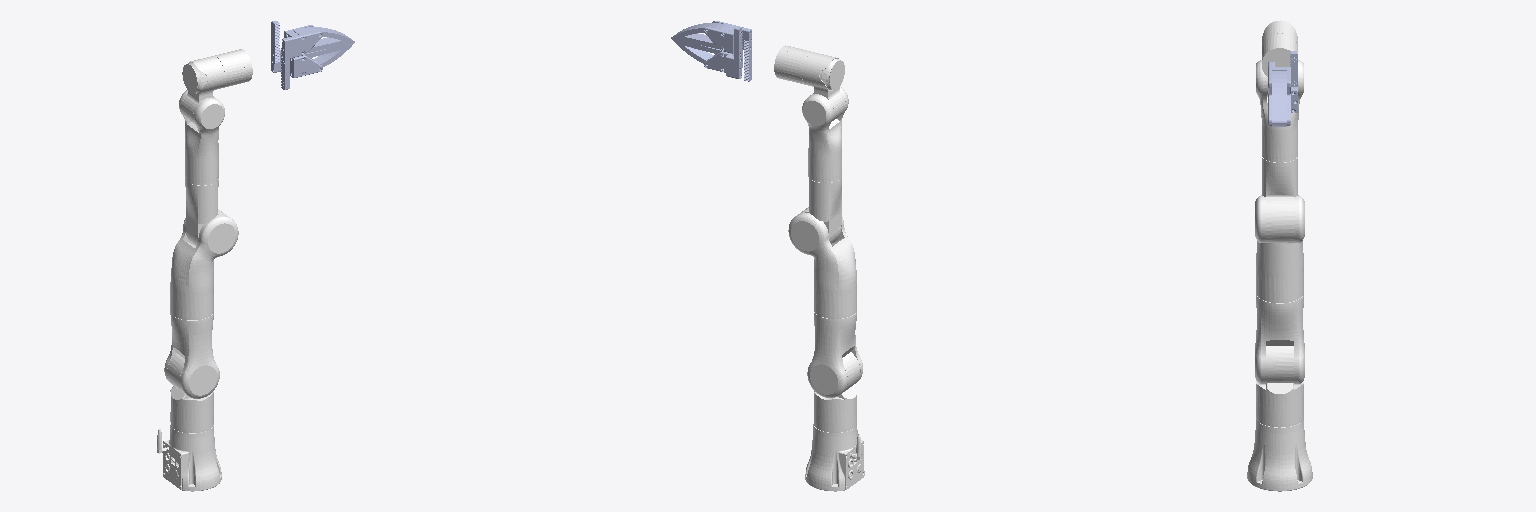
URDF robot description (panda):
<?xml version="1.0" ?>
<!-- =================================================================================== -->
<!-- |    This document was autogenerated by xacro from /opt/ros/noetic/share/franka_description/robots/panda/panda.urdf.xacro | -->
<!-- |    EDITING THIS FILE BY HAND IS NOT RECOMMENDED                                 | -->
<!-- =================================================================================== -->
<robot name="panda">
  <!-- sub-link defining detailed meshes for collision with environment -->
  <link
    name="panda_link0">
    <inertial>
      <origin
        xyz="0.000608631599856789 0.000101410841223995 0.0500536423028974"
        rpy="0 0 0" />
      <mass
        value="0.725732279372378" />
      <inertia
        ixx="0.00116526259312761"
        ixy="3.86984764047093E-06"
        ixz="3.61598634195121E-05"
        iyy="0.00114387939249178"
        iyz="-1.69159565748085E-06"
        izz="0.000799620765266388" />
    </inertial>
    <visual>
      <origin
        xyz="0 0 0"
        rpy="0 0 0" />
      <geometry>
        <mesh
          filename="package://franka_description/robots/meshes_gen/base_link.dae" />
      </geometry>
      <material
        name="">
        <color
          rgba="1 1 1 1" />
      </material>
    </visual>
    <collision>
      <origin
        xyz="0 0 0"
        rpy="0 0 0" />
      <geometry>
        <mesh
          filename="package://franka_description/robots/meshes_gen/base_link.STL" />
      </geometry>
    </collision>
  </link>
  <link
    name="panda_link1">
    <inertial>
      <origin
        xyz="3.54241616240111E-07 -6.0407327765511E-05 -0.0474562076947793"
        rpy="0 0 0" />
      <mass
        value="0.511231576042974" />
      <inertia
        ixx="0.000959440501675413"
        ixy="-1.90967914521862E-09"
        ixz="-7.95751539476377E-09"
        iyy="0.00102039305288465"
        iyz="1.46570590325122E-06"
        izz="0.000388714616194907" />
    </inertial>
    <visual>
      <origin
        xyz="0 0 0"
        rpy="0 0 0" />
      <geometry>
        <mesh
          filename="package://franka_description/robots/meshes_gen/Link1.dae" />
      </geometry>
      <material
        name="">
        <color
          rgba="1 1 1 1" />
      </material>
    </visual>
    <collision>
      <origin
        xyz="0 0 0"
        rpy="0 0 0" />
      <geometry>
        <mesh
          filename="package://franka_description/robots/meshes_gen/Link1.STL" />
      </geometry>
    </collision>
  </link>
  <joint
    name="panda_joint1"
    type="revolute">
    <origin
      xyz="0 0 0.218"
      rpy="0 0 0" />
    <parent
      link="panda_link0" />
    <child
      link="panda_link1" />
    <axis
      xyz="0 0 1" />
    <limit
      lower="-3.0014"
      upper="3.0014"
      effort="25"
      velocity="3.141" />
  </joint>
  <link
    name="panda_link2">
    <inertial>
      <origin
        xyz="-7.09647952406739E-07 -0.0576246216953338 -3.88440270542586E-05"
        rpy="0 0 0" />
      <mass
        value="0.551907023014854" />
      <inertia
        ixx="0.00142140348660833"
        ixy="-1.11203318362369E-08"
        ixz="1.36371990293752E-08"
        iyy="0.00052571427239726"
        iyz="1.30499471891358E-06"
        izz="0.00127234961251408" />
    </inertial>
    <visual>
      <origin
        xyz="0 0 0"
        rpy="0 0 0" />
      <geometry>
        <mesh
          filename="package://franka_description/robots/meshes_gen/Link2.dae" />
      </geometry>
      <material
        name="">
        <color
          rgba="1 1 1 1" />
      </material>
    </visual>
    <collision>
      <origin
        xyz="0 0 0"
        rpy="0 0 0" />
      <geometry>
        <mesh
          filename="package://franka_description/robots/meshes_gen/Link2.STL" />
      </geometry>
    </collision>
  </link>
  <joint
    name="panda_joint2"
    type="revolute">
    <origin
      xyz="0 0 0"
      rpy="-1.5708 0 0" />
    <parent
      link="panda_link1" />
    <child
      link="panda_link2" />
    <axis
      xyz="0 0 1" />
    <limit
      lower="-1.8323"
      upper="1.8323"
      effort="25"
      velocity="3.141" />
  </joint>
  <link
    name="panda_link3">
    <inertial>
      <origin
        xyz="0.00897441376214204 2.62633968732461E-05 -0.07382847021305"
        rpy="0 0 0" />
      <mass
        value="0.774130450031718" />
      <inertia
        ixx="0.00242102073961794"
        ixy="-6.22596416744426E-07"
        ixz="-0.000489521447339786"
        iyy="0.00248694314969312"
        iyz="-1.48542895560703E-06"
        izz="0.000900997189719803" />
    </inertial>
    <visual>
      <origin
        xyz="0 0 0"
        rpy="0 0 0" />
      <geometry>
        <mesh
          filename="package://franka_description/robots/meshes_gen/Link3.dae" />
      </geometry>
      <material
        name="">
        <color
          rgba="1 1 1 1" />
      </material>
    </visual>
    <collision>
      <origin
        xyz="0 0 0"
        rpy="0 0 0" />
      <geometry>
        <mesh
          filename="package://franka_description/robots/meshes_gen/Link3.STL" />
      </geometry>
    </collision>
  </link>
  <joint
    name="panda_joint3"
    type="revolute">
    <origin
      xyz="0 -0.28 0"
      rpy="1.5708 0 0" />
    <parent
      link="panda_link2" />
    <child
      link="panda_link3" />
    <axis
      xyz="0 0 1" />
    <limit
      lower="-3.0014"
      upper="3.0014"
      effort="25"
      velocity="3.141" />
  </joint>
  <link
    name="panda_link4">
    <inertial>
      <origin
        xyz="-0.00962438865086499 0.0352034287339324 0.000174576348464699"
        rpy="0 0 0" />
      <mass
        value="0.437130215853825" />
      <inertia
        ixx="0.000866914153248162"
        ixy="0.000148761646913658"
        ixz="-7.42553547352418E-07"
        iyy="0.000267753002587659"
        iyz="2.68058265485487E-06"
        izz="0.000952324298928136" />
    </inertial>
    <visual>
      <origin
        xyz="0 0 0"
        rpy="0 0 0" />
      <geometry>
        <mesh
          filename="package://franka_description/robots/meshes_gen/Link4.dae" />
      </geometry>
      <material
        name="">
        <color
          rgba="1 1 1 1" />
      </material>
    </visual>
    <collision>
      <origin
        xyz="0 0 0"
        rpy="0 0 0" />
      <geometry>
        <mesh
          filename="package://franka_description/robots/meshes_gen/Link4.STL" />
      </geometry>
    </collision>
  </link>
  <joint
    name="panda_joint4"
    type="revolute">
    <origin
      xyz="0.04 0 0"
      rpy="1.5708 0 0" />
    <parent
      link="panda_link3" />
    <child
      link="panda_link4" />
    <axis
      xyz="0 0 1" />
    <limit
      lower="-2.8792"
      upper="0.9597"
      effort="25"
      velocity="3.141" />
  </joint>
  <link
    name="panda_link5">
    <inertial>
      <origin
        xyz="-4.77956518807332E-07 -3.84737693792594E-05 -0.066955487820054"
        rpy="0 0 0" />
      <mass
        value="0.424276753764529" />
      <inertia
        ixx="0.0011244489011316"
        ixy="7.5662322019411E-09"
        ixz="-1.71276249932628E-08"
        iyy="0.00103382374928123"
        iyz="8.24694417478756E-07"
        izz="0.000274640088277484" />
    </inertial>
    <visual>
      <origin
        xyz="0 0 0"
        rpy="0 0 0" />
      <geometry>
        <mesh
          filename="package://franka_description/robots/meshes_gen/Link5.dae" />
      </geometry>
      <material
        name="">
        <color
          rgba="1 1 1 1" />
      </material>
    </visual>
    <collision>
      <origin
        xyz="0 0 0"
        rpy="0 0 0" />
      <geometry>
        <mesh
          filename="package://franka_description/robots/meshes_gen/Link5.STL" />
      </geometry>
    </collision>
  </link>
  <joint
    name="panda_joint5"
    type="revolute">
    <origin
      xyz="-0.019 0.2525 0"
      rpy="-1.5708 0 0" />
    <parent
      link="panda_link4" />
    <child
      link="panda_link5" />
    <axis
      xyz="0 0 1" />
    <limit
      lower="-3.0014"
      upper="3.0014"
      effort="5"
      velocity="3.926" />
  </joint>
  <link
    name="panda_link6">
    <inertial>
      <origin
        xyz="0.00184221861298974 0.0379763265035087 -9.21090904324278E-05"
        rpy="0 0 0" />
      <mass
        value="0.302793039332829" />
      <inertia
        ixx="0.00014011480503376"
        ixy="-3.00204828273403E-06"
        ixz="-4.58155498966787E-10"
        iyy="0.000132631402640971"
        iyz="7.01344540253995E-10"
        izz="0.000155721320872423" />
    </inertial>
    <visual>
      <origin
        xyz="0 0 0"
        rpy="0 0 0" />
      <geometry>
        <mesh
          filename="package://franka_description/robots/meshes_gen/Link6.dae" />
      </geometry>
      <material
        name="">
        <color
          rgba="1 1 1 1" />
      </material>
    </visual>
    <collision>
      <origin
        xyz="0 0 0"
        rpy="0 0 0" />
      <geometry>
        <mesh
          filename="package://franka_description/robots/meshes_gen/Link6.STL" />
      </geometry>
    </collision>
  </link>
  <joint
    name="panda_joint6"
    type="revolute">
    <origin
      xyz="0 0 0"
      rpy="1.5708 0 0" />
    <parent
      link="panda_link5" />
    <child
      link="panda_link6" />
    <axis
      xyz="0 0 1" />
    <limit
      lower="-1.707"
      upper="1.783"
      effort="5"
      velocity="3.926" />
  </joint>
  <link
    name="panda_link7">
    <inertial>
      <origin
        xyz="0.000199884675729955 -4.25081843764018E-08 -0.0292498694019246"
        rpy="0 0 0" />
      <mass
        value="0.176612671882913" />
      <inertia
        ixx="6.24281233883421E-05"
        ixy="2.55814128580721E-10"
        ixz="-3.1014379202721E-12"
        iyy="6.24291486534025E-05"
        iyz="1.37181281239386E-11"
        izz="8.48642555354654E-05" />
    </inertial>
    <visual>
      <origin
        xyz="0 0 0"
        rpy="0 0 0" />
      <geometry>
        <mesh
          filename="package://franka_description/robots/meshes_gen/Link7.dae" />
      </geometry>
      <material
        name="">
        <color
          rgba="1 1 1 1" />
      </material>
    </visual>
    <collision>
      <origin
        xyz="0 0 0"
        rpy="0 0 0" />
      <geometry>
        <mesh
          filename="package://franka_description/robots/meshes_gen/Link7.STL" />
      </geometry>
    </collision>
  </link>
  <joint
    name="panda_join7"
    type="revolute">
    <origin
      xyz="0.0905 0.067 0"
      rpy="1.5708 0 1.5708" />
    <parent
      link="panda_link6" />
    <child
      link="panda_link7" />
    <axis
      xyz="0 0 1" />
    <limit
      lower="-3.0014"
      upper="3.0014"
      effort="5"
      velocity="3.926" />
  </joint>
  <!-- <link name="panda_link8"/>
  <joint name="panda_joint8" type="fixed">
    <origin rpy="0 0 0" xyz="0 0 0.107"/>
    <parent link="panda_link7"/>
    <child link="panda_link8"/>
  </joint> -->
  <!-- sub-link defining detailed meshes for collision with environment -->
  <!-- Panda hand -->
  <joint name="panda_hand_joint" type="fixed">
    <parent link="panda_link7"/>
    <child link="panda_hand"/>
    <origin rpy="0 0 0" xyz="0 0 0"/>
  </joint>

  <link
    name="panda_hand">
    <inertial>
      <origin
        xyz="0.000590732710131745 -0.00212482055829597 0.0390711121564613"
        rpy="0 0 0" />
      <mass
        value="0.410076712822003" />
      <inertia
        ixx="0.000490743093860451"
        ixy="8.88694180287399E-06"
        ixz="-4.40788336869861E-07"
        iyy="0.000921185312665057"
        iyz="3.47120316959879E-05"
        izz="0.00085013675383108" />
    </inertial>
    <visual>
      <origin
        xyz="0 0 0"
        rpy="0 0 0" />
      <geometry>
        <mesh
          filename="package://franka_description/robots/Gripper/meshes/panda_hand.dae" />
      </geometry>
      <material
        name="">
        <color
          rgba="0.749019607843137 0.749019607843137 0.749019607843137 1" />
      </material>
    </visual>
    <collision>
      <origin
        xyz="0 0 0"
        rpy="0 0 0" />
      <geometry>
        <mesh
          filename="package://franka_description/robots/Gripper/meshes/panda_hand.stl" />
      </geometry>
    </collision>
  </link>
  <link
    name="panda_leftfinger">
    <inertial>
      <origin
        xyz="-0.14078 0.018679 0.052776"
        rpy="0 0 0" />
      <mass
        value="0.11401" />
      <inertia
        ixx="7.9791E-05"
        ixy="-1.4328E-07"
        ixz="-6.9009E-06"
        iyy="9.604E-05"
        iyz="1.6264E-08"
        izz="3.962E-05" />
    </inertial>
    <visual>
      <origin
        xyz="0 0 0"
        rpy="0 0 0" />
      <geometry>
        <mesh
          filename="package://franka_description/robots/Gripper/meshes/Left_Gripper.dae" />
      </geometry>
      <material
        name="">
        <color
          rgba="0.79216 0.81961 0.93333 1" />
      </material>
    </visual>
    <collision>
      <origin
        xyz="-0.145 0.0154 0.08"
        rpy="0 0 0" />
      <geometry>
        <box size="4e-2 3.5e-2 13.5e-2"/>
      </geometry>
    </collision>
  </link>
  <joint
    name="LG"
    type="prismatic">
    <origin
      xyz="0.125 -0.02241 0.0801"
      rpy="0 0 0" />
    <parent
      link="panda_hand" />
    <child
      link="panda_leftfinger" />
    <axis
      xyz="-1 0 0" />
    <limit
      lower="0"
      upper="0.055"
      effort="10"
      velocity="0.1" />
  </joint>
  <link
    name="panda_rightfinger">
    <inertial>
      <origin
        xyz="-0.14059 0.0092217 0.053953"
        rpy="0 0 0" />
      <mass
        value="0.11017" />
      <inertia
        ixx="7.7997E-05"
        ixy="-1.4178E-07"
        ixz="-6.9009E-06"
        iyy="9.5588E-05"
        iyz="9.38E-09"
        izz="3.7415E-05" />
    </inertial>
    <visual>
      <origin
        xyz="0 0 0"
        rpy="0 0 0" />
      <geometry>
        <mesh
          filename="package://franka_description/robots/Gripper/meshes/Right_Gripper.dae" />
      </geometry>
      <material
        name="">
        <color
          rgba="0.79216 0.81961 0.93333 1" />
      </material>
    </visual>
    <collision>
      <origin
        xyz="-0.145 0.0154 0.08"
        rpy="0 0 0" />
      <geometry>
        <box size="4e-2 3.5e-2 13.5e-2"/>
      </geometry>
    </collision>
  </link>
  <joint
    name="RG"
    type="prismatic">
    <origin
      xyz="-0.125 0.01159 0.0801"
      rpy="0 0 -3.1416" />
    <parent
      link="panda_hand" />
    <child
      link="panda_rightfinger" />
    <axis
      xyz="-1 0 0" />
    <limit
      lower="0"
      upper="0.055"
      effort="10"
      velocity="0.1" />
  </joint>



  <joint name="k_ee" type="fixed">
    <parent link="panda_hand"/>
    <child link="k_ee_link"/>
    <origin rpy="0 0 0" xyz="0 0 0.103399"/>
  </joint>
  <link name="k_ee_link">
  </link>
</robot>

--- Render facts (derived) ---
3 views of the same robot in one strip: view 1: azimuth 30°, elevation 25°; view 2: azimuth 150°, elevation 25°; view 3: azimuth 270°, elevation 25° (orthographic).
Model panda with 12 links and 11 joints (7 revolute, 2 prismatic, 2 fixed), rooted at panda_link0, posed all joints at 0.
Links seen in each view (by area): view 1: panda_link3, panda_link0, panda_link2, panda_link5, panda_link1, panda_rightfinger, panda_link6, panda_link4, panda_leftfinger, panda_link7; view 2: panda_link3, panda_link0, panda_link2, panda_link5, panda_link1, panda_link6, panda_rightfinger, panda_link4, panda_leftfinger, panda_link7; view 3: panda_link3, panda_link0, panda_link1, panda_link2, panda_link4, panda_link5, panda_rightfinger, panda_link7, panda_leftfinger.
Boxes of the visible links, x1,y1,x2,y2 form: panda_link3: (170,215,238,319); panda_link0: (157,424,221,491); panda_link2: (164,312,219,398); panda_link5: (179,90,224,185); panda_link1: (167,353,213,432); panda_rightfinger: (281,25,354,89); panda_link6: (182,56,224,124); panda_link4: (185,179,226,245); panda_leftfinger: (271,21,354,77); panda_link7: (215,49,252,87); panda_link3: (788,213,856,318); panda_link0: (805,424,864,491); panda_link2: (807,312,862,397); panda_link5: (802,87,848,182); panda_link1: (814,352,859,432); panda_link6: (802,52,845,120); panda_rightfinger: (671,21,751,81); panda_link4: (801,176,841,243); panda_leftfinger: (671,26,742,78); panda_link7: (774,45,811,84); panda_link3: (1255,195,1304,302); panda_link0: (1247,419,1312,491); panda_link1: (1256,346,1303,427); panda_link2: (1255,295,1304,383); panda_link4: (1262,157,1297,242); panda_link5: (1256,60,1303,162); panda_rightfinger: (1268,62,1290,121); panda_link7: (1262,33,1297,76); panda_leftfinger: (1268,51,1297,126).
Size in the robot's own frame: 0.4046 by 0.11 by 0.8781 metres.
Meshes: 11 distinct files referenced, 10 mesh visuals loaded (10 Collada DAE); not drawn: 1 (reference not matched to a file when rendering).